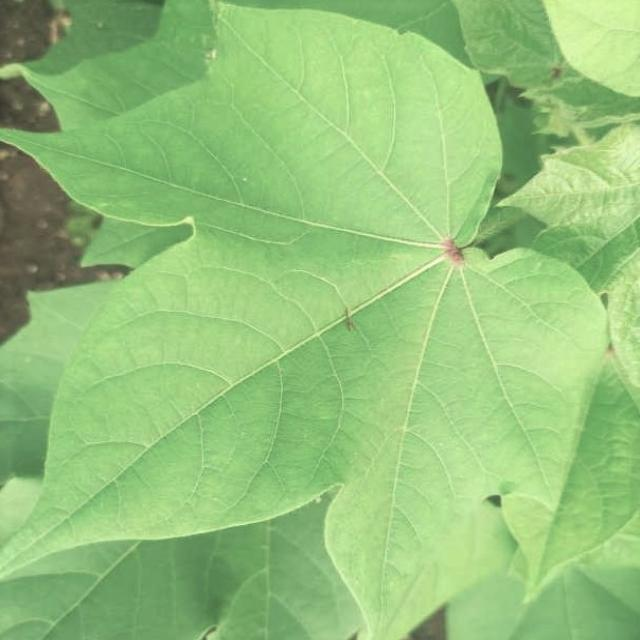Healthy Leaf: (36, 14, 640, 640)
